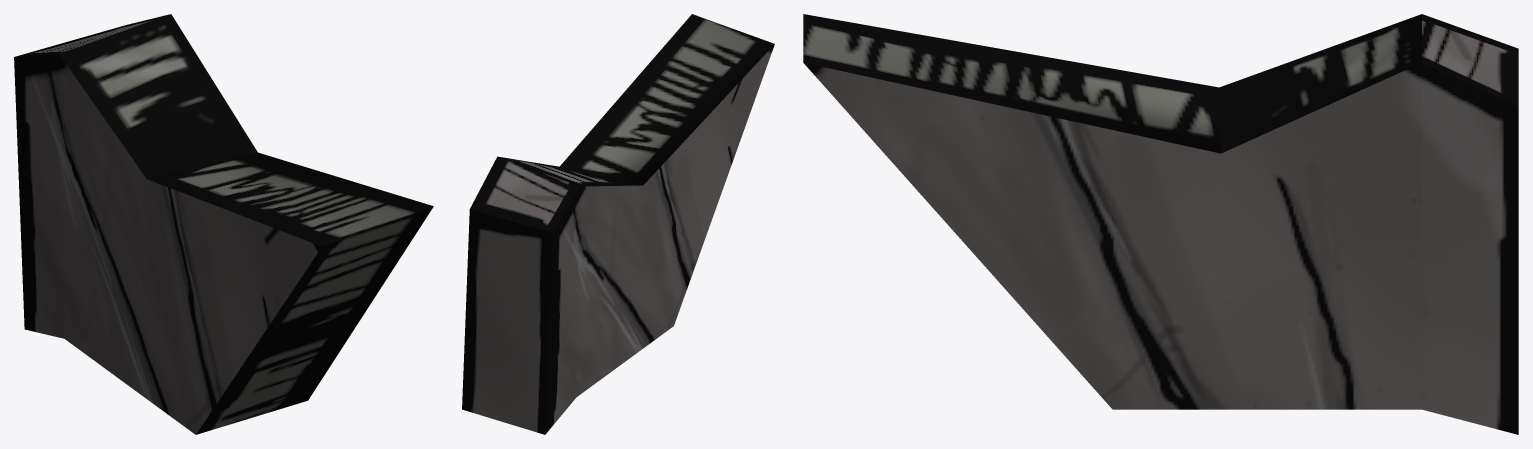
Rendered from tombstone_04_gib3.fbx.
3 views of the same model, side by side, from view 1: azimuth 30°, elevation 25°; view 2: azimuth 150°, elevation 25°; view 3: azimuth 270°, elevation 25° (orthographic). The views are drawn at different scales.
Visible parts, largest first — view 1: tombstone_04_gib3; view 2: tombstone_04_gib3; view 3: tombstone_04_gib3.
Boxes of the visible parts, x1,y1,x2,y2 form: tombstone_04_gib3: (14,14,433,434); tombstone_04_gib3: (462,14,774,434); tombstone_04_gib3: (803,14,1518,434).
Bounding box in the file's own units: 1.09 × 2.72 × 4.68.
